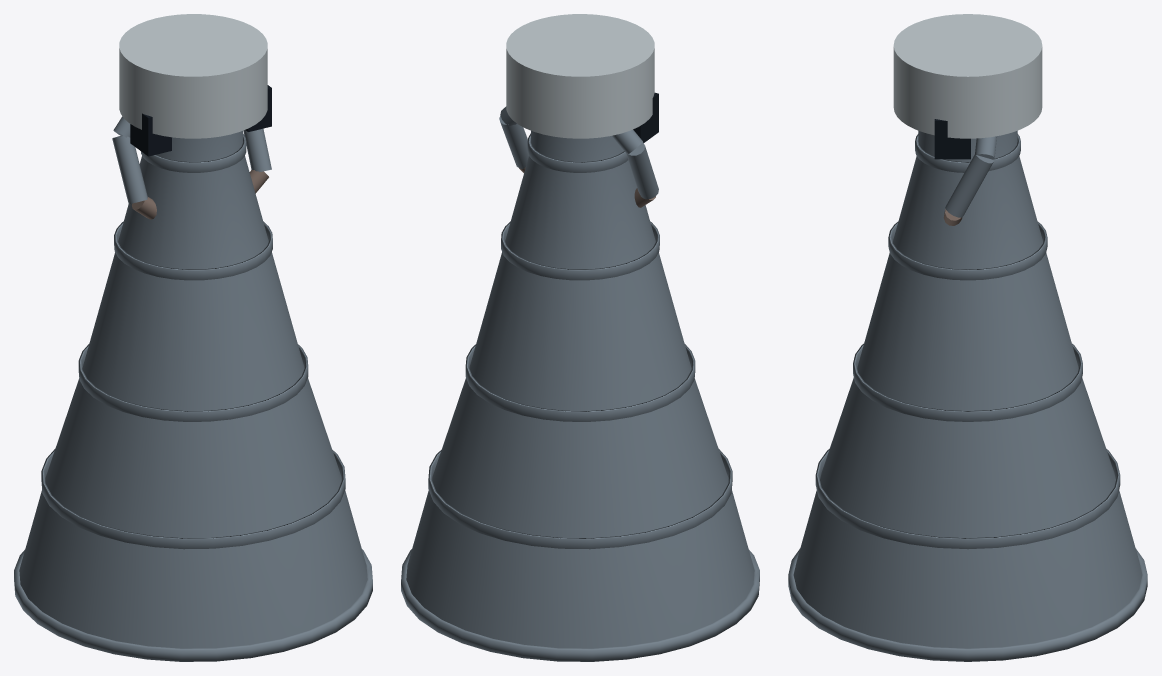
Rendered from rs25_engine.glb.
3 renders of one model, left to right at view 1: azimuth 30°, elevation 25°; view 2: azimuth 150°, elevation 25°; view 3: azimuth 270°, elevation 25°, orthographic.
Visible parts, largest first — view 1: sls_corers25_01bellmesh_Machined_steel, sls_corers25_01mesh_Satin_aluminum, rs25_engine.simplified_feed_hardware.mesh_Machined_steel, rs25_engine.simplified_feed_hardware.mesh_Shadowed_interior, rs25_engine.simplified_feed_hardware.mesh_Heat-stained_alloy; view 2: sls_corers25_01bellmesh_Machined_steel, sls_corers25_01mesh_Satin_aluminum, rs25_engine.simplified_feed_hardware.mesh_Machined_steel, rs25_engine.simplified_feed_hardware.mesh_Shadowed_interior; view 3: sls_corers25_01bellmesh_Machined_steel, sls_corers25_01mesh_Satin_aluminum, rs25_engine.simplified_feed_hardware.mesh_Machined_steel, rs25_engine.simplified_feed_hardware.mesh_Shadowed_interior.
Boxes of the visible parts, x1,y1,x2,y2 form: sls_corers25_01bellmesh_Machined_steel: [14, 131, 372, 661]; sls_corers25_01mesh_Satin_aluminum: [119, 14, 267, 138]; rs25_engine.simplified_feed_hardware.mesh_Machined_steel: [112, 116, 271, 203]; rs25_engine.simplified_feed_hardware.mesh_Shadowed_interior: [130, 85, 271, 156]; rs25_engine.simplified_feed_hardware.mesh_Heat-stained_alloy: [132, 170, 268, 219]; sls_corers25_01bellmesh_Machined_steel: [401, 131, 759, 661]; sls_corers25_01mesh_Satin_aluminum: [506, 14, 654, 138]; rs25_engine.simplified_feed_hardware.mesh_Machined_steel: [499, 106, 658, 199]; rs25_engine.simplified_feed_hardware.mesh_Shadowed_interior: [633, 92, 658, 142]; sls_corers25_01bellmesh_Machined_steel: [788, 130, 1147, 661]; sls_corers25_01mesh_Satin_aluminum: [893, 14, 1042, 138]; rs25_engine.simplified_feed_hardware.mesh_Machined_steel: [945, 136, 996, 217]; rs25_engine.simplified_feed_hardware.mesh_Shadowed_interior: [934, 119, 970, 159].
Size of the model in its own units: 2.37 by 3.93 by 2.37.
